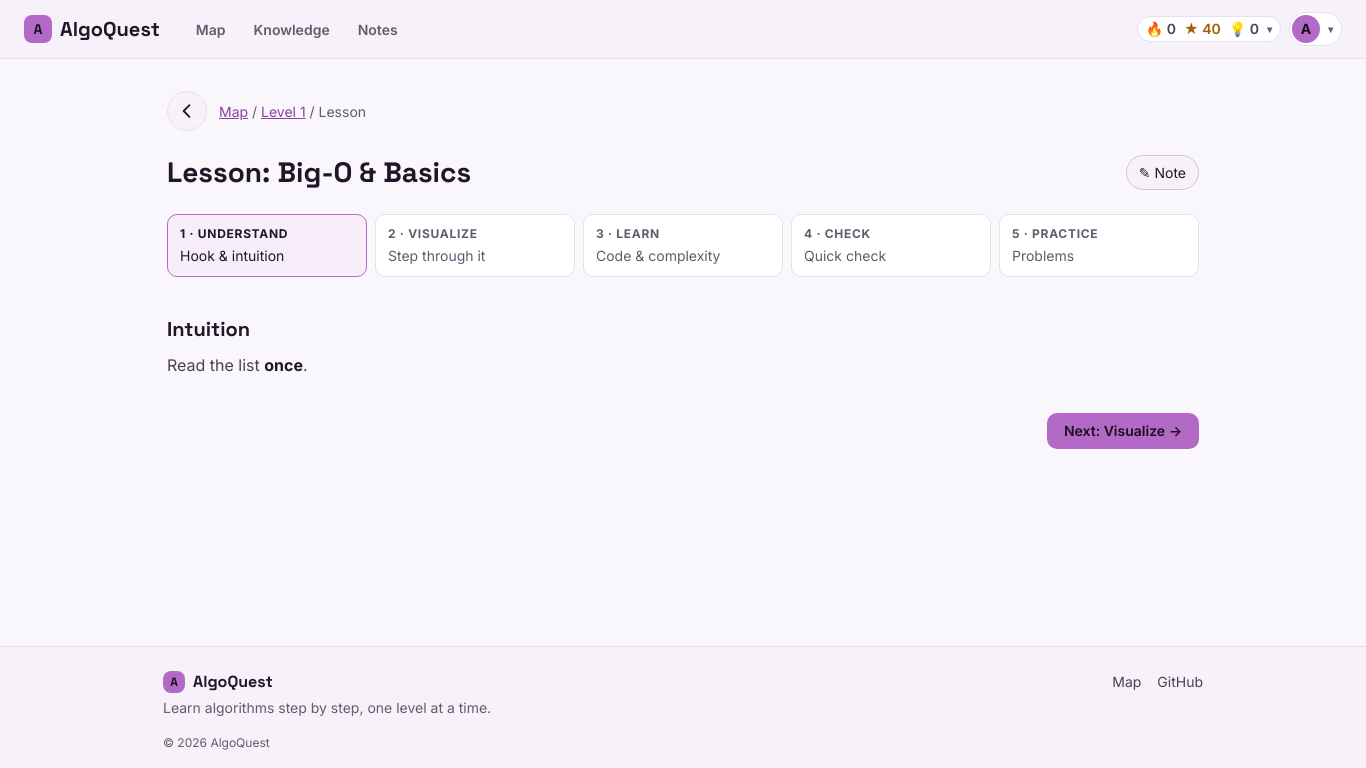
it: notes › quick notes on the lesson page › opens beside the lesson, lists this level's notes and opens one
Click the button with aria-label "Open quick notes (N)" at (1162, 172), box [1126, 155, 1199, 190]
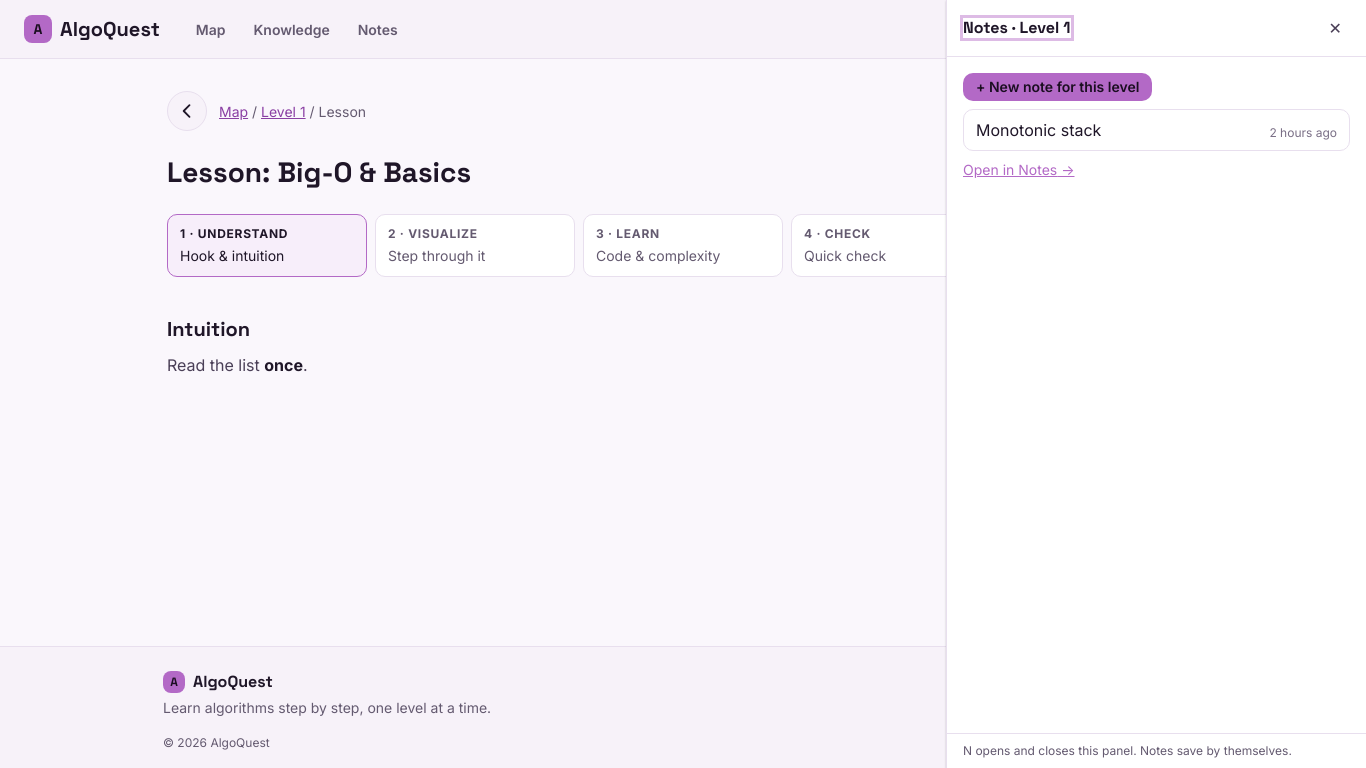
Expected: the heading "Lesson: Big-O & Basics" is shown, [167, 156, 471, 189]
Click the button "Monotonic stack 2 hours ago" at (1039, 130), box [963, 109, 1350, 151]
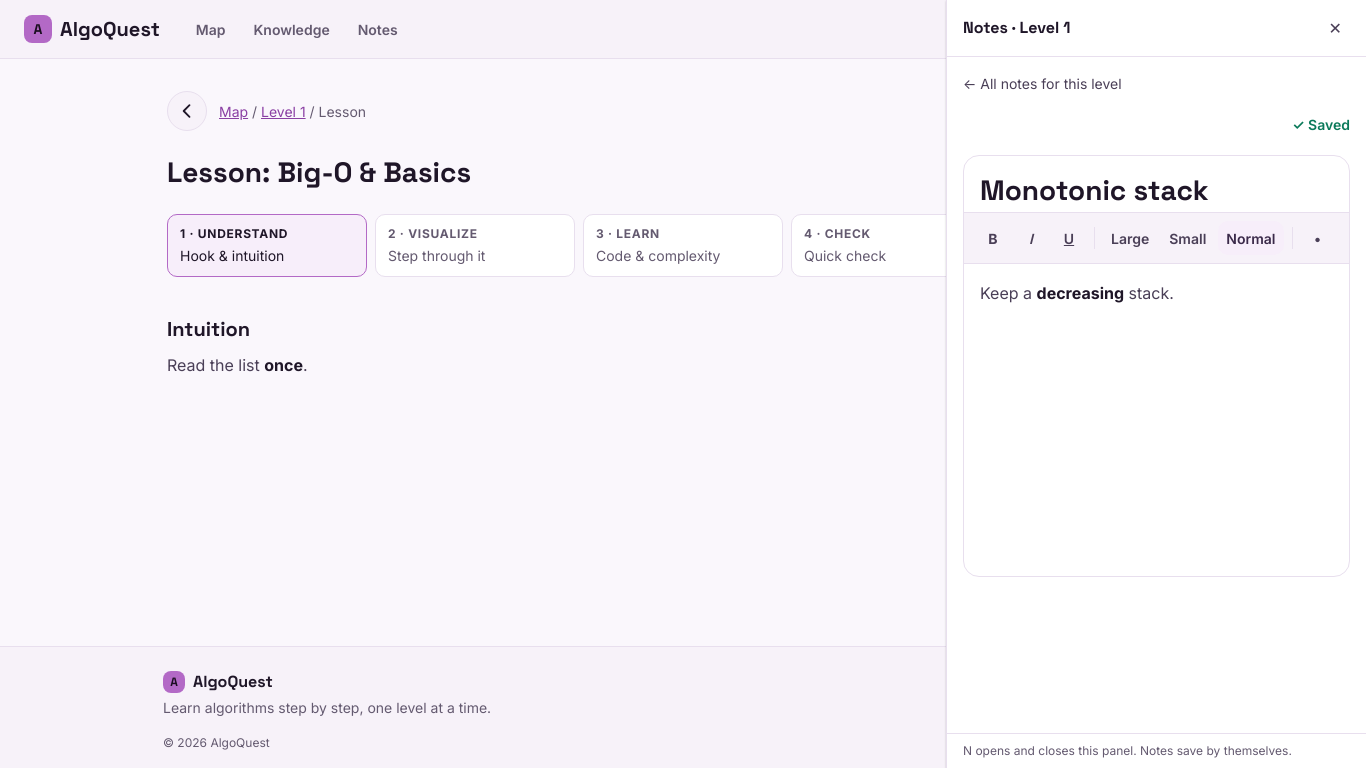
Expected: the field named "title" holds "Monotonic stack", [964, 156, 1349, 212]
